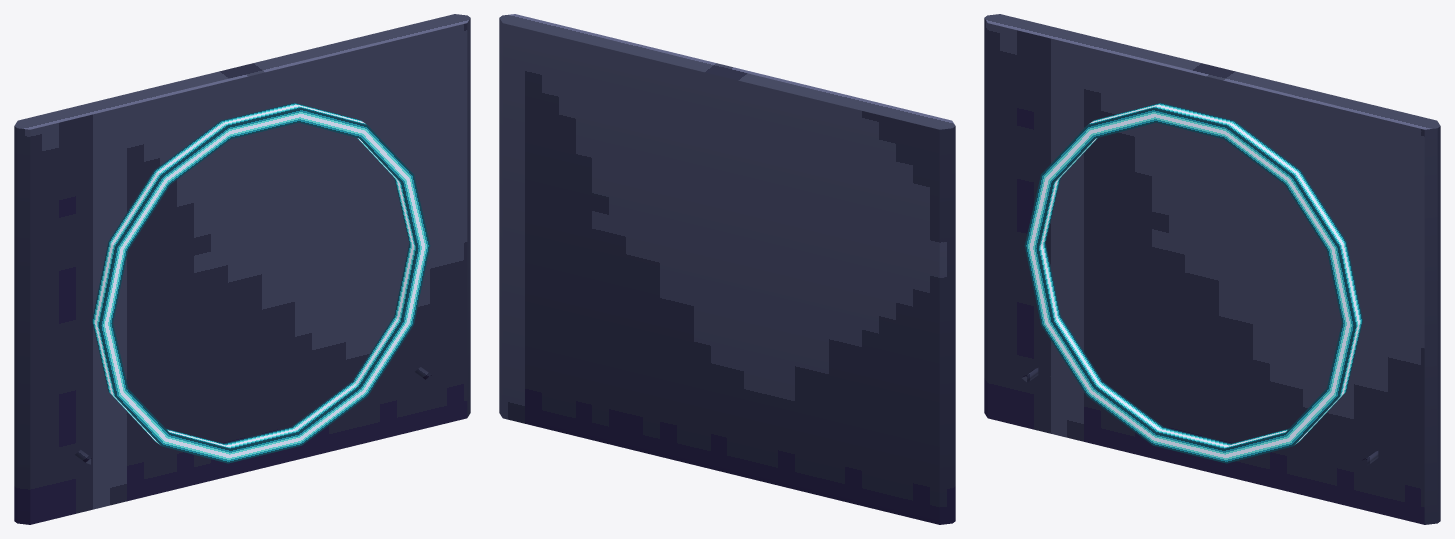
The model's file is cysign.tube.glb.
3 renders of one model, left to right at view 1: azimuth 30°, elevation 25°; view 2: azimuth 150°, elevation 25°; view 3: azimuth 330°, elevation 25°, orthographic.
Parts seen in each view (by area): view 1: kit_plate, kit_tube; view 2: kit_plate; view 3: kit_plate, kit_tube.
Part boxes in pixels (x1=…): kit_plate: x1=14, y1=14, x2=470, y2=524; kit_tube: x1=75, y1=102, x2=431, y2=464; kit_plate: x1=499, y1=14, x2=955, y2=524; kit_plate: x1=984, y1=14, x2=1440, y2=524; kit_tube: x1=1021, y1=102, x2=1378, y2=465.
Size of the model in its own units: 1.68 by 1.4 by 0.1847.
Materials: 3 (3 with a texture image).
